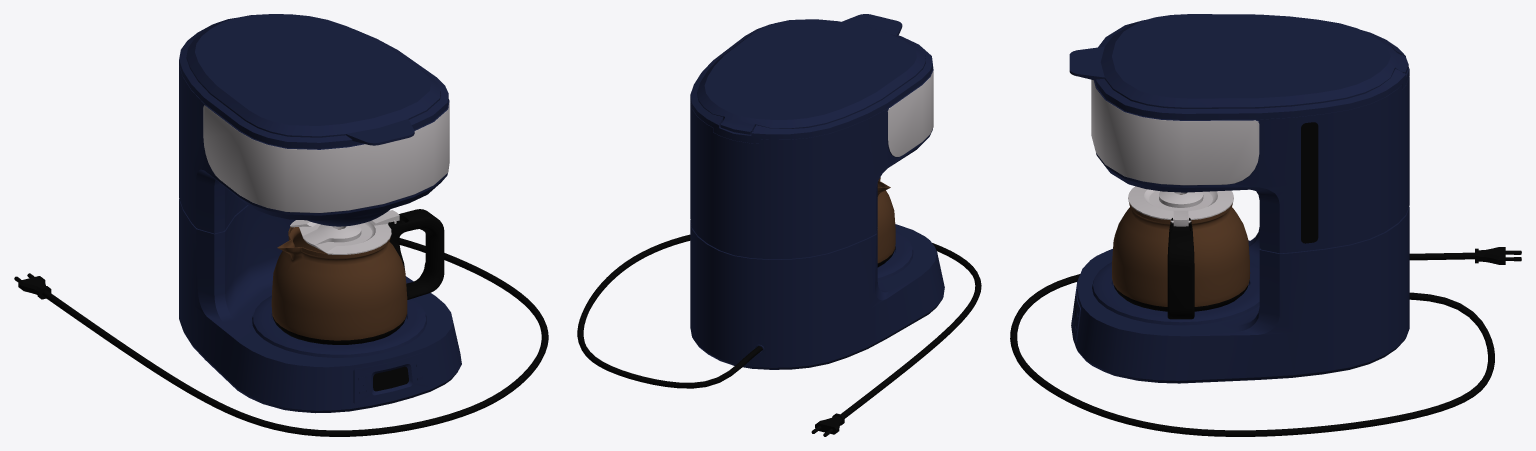
Rendered from coffffeMachine.fbx.
3 views of the same model, side by side, from view 1: azimuth 30°, elevation 25°; view 2: azimuth 150°, elevation 25°; view 3: azimuth 270°, elevation 25° (orthographic). The views are drawn at different scales.
Parts seen in each view (by area): view 1: defaultMaterial.007; view 2: defaultMaterial.007; view 3: defaultMaterial.007.
Part boxes in pixels (x1=…): defaultMaterial.007: x1=14, y1=14, x2=548, y2=436; defaultMaterial.007: x1=577, y1=14, x2=981, y2=436; defaultMaterial.007: x1=1010, y1=14, x2=1521, y2=436.
Bounding box in the file's own units: 295 × 209 × 348.
